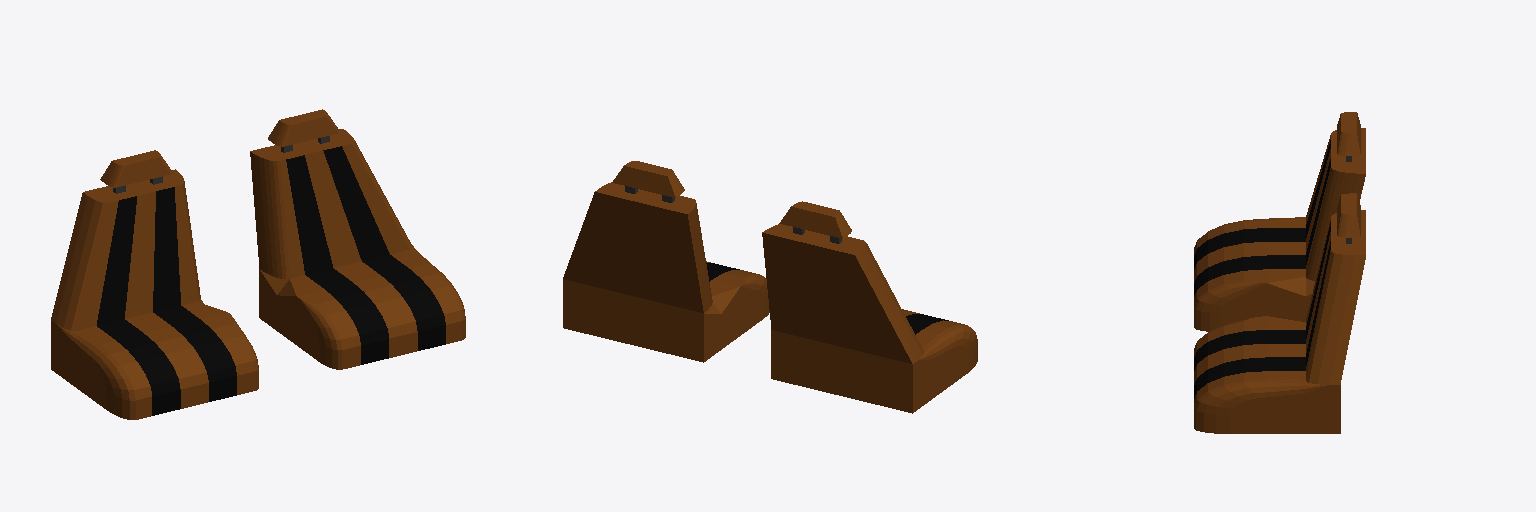
Rendered from armchair.obj.
The picture shows the model from 3 angles: view 1: azimuth 30°, elevation 25°; view 2: azimuth 150°, elevation 25°; view 3: azimuth 270°, elevation 25°; orthographic projection.
Visible parts, largest first — view 1: Cube.002_Cube.010; view 2: Cube.002_Cube.010; view 3: Cube.002_Cube.010.
Boxes of the visible parts, x1=… form: Cube.002_Cube.010: x1=51, y1=109, x2=465, y2=419; Cube.002_Cube.010: x1=563, y1=161, x2=977, y2=413; Cube.002_Cube.010: x1=1194, y1=112, x2=1365, y2=433.
Size of the model in its own units: 6.46 by 3.27 by 2.76.